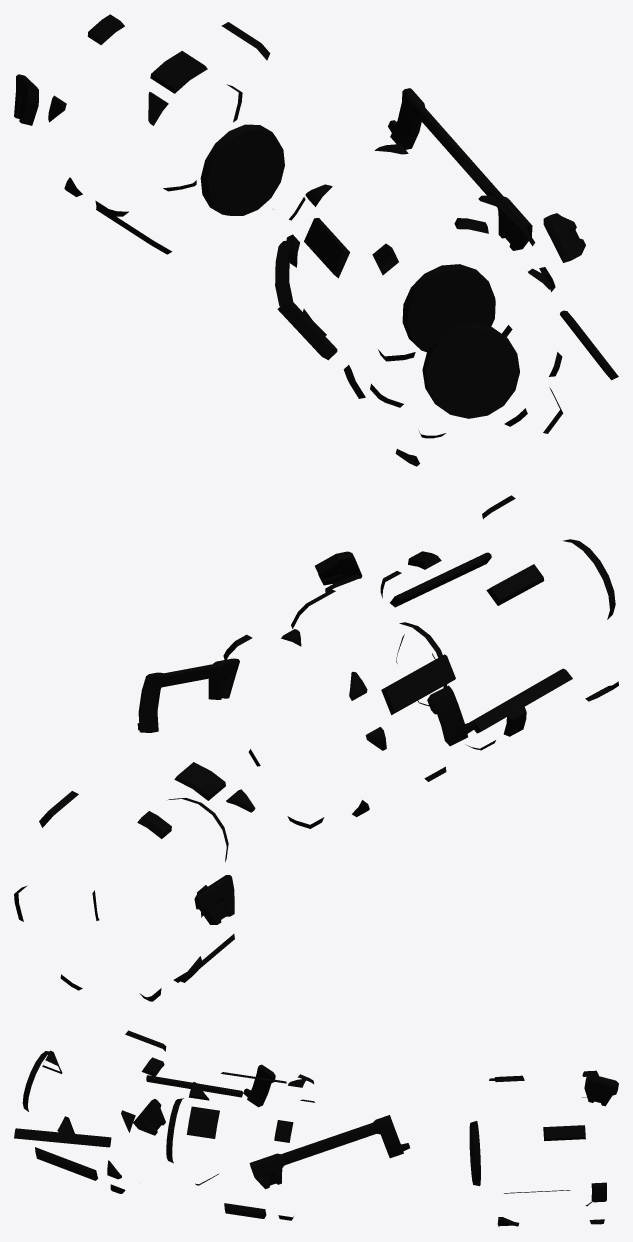
File: env_container_01_02.glb
The picture shows the model from 3 angles, top to bottom: view 1: azimuth 30°, elevation 25°; view 2: azimuth 150°, elevation 25°; view 3: azimuth 270°, elevation 25°; orthographic projection. The views are drawn at different scales.
Parts seen in each view (by area): view 1: env_container_01_03_LOD0 (×2), env_container_01_02_LOD0, env_container_01_connector (1), env_container_01_connector_broken_03 (1), env_container_01_connector_broken_02 (1), env_container_01_connector_broken_03 (2), env_container_01_connector_broken_01 (1), env_container_01_connector_broken_02 (2); view 2: env_container_01_03_LOD0 (×2), env_container_01_02_LOD0, env_container_01_connector (1), env_container_01_connector_broken_02 (1), env_container_01_connector_broken_01 (1), env_container_01_connector_broken_03 (2), env_container_01_connector_broken_02 (2), env_container_01_connector_broken_03 (1); view 3: env_container_01_03_LOD0 (×2), env_container_01_connector (1), env_container_01_02_LOD0, env_container_01_connector_broken_02 (2), env_container_01_connector_broken_03 (2), env_container_01_connector_broken_03 (1), env_container_01_connector_broken_01 (1), env_container_01_connector_broken_02 (1).
Part boxes in pixels (bbox=[...]): env_container_01_03_LOD0 (×2): bbox=[48, 14, 535, 407]; env_container_01_02_LOD0: bbox=[343, 218, 563, 466]; env_container_01_connector (1): bbox=[388, 88, 532, 250]; env_container_01_connector_broken_03 (1): bbox=[543, 213, 585, 262]; env_container_01_connector_broken_02 (1): bbox=[277, 300, 337, 360]; env_container_01_connector_broken_03 (2): bbox=[14, 74, 38, 125]; env_container_01_connector_broken_01 (1): bbox=[275, 240, 293, 306]; env_container_01_connector_broken_02 (2): bbox=[560, 310, 618, 380]; env_container_01_03_LOD0 (×2): bbox=[14, 574, 455, 1001]; env_container_01_02_LOD0: bbox=[380, 495, 618, 750]; env_container_01_connector (1): bbox=[137, 658, 239, 732]; env_container_01_connector_broken_02 (1): bbox=[470, 668, 572, 733]; env_container_01_connector_broken_01 (1): bbox=[427, 685, 475, 746]; env_container_01_connector_broken_03 (2): bbox=[194, 875, 234, 924]; env_container_01_connector_broken_02 (2): bbox=[390, 552, 491, 607]; env_container_01_connector_broken_03 (1): bbox=[315, 551, 362, 585]; env_container_01_03_LOD0 (×2): bbox=[166, 1070, 606, 1226]; env_container_01_connector (1): bbox=[249, 1115, 409, 1189]; env_container_01_02_LOD0: bbox=[22, 1030, 166, 1193]; env_container_01_connector_broken_02 (2): bbox=[14, 1128, 111, 1147]; env_container_01_connector_broken_03 (2): bbox=[584, 1076, 618, 1106]; env_container_01_connector_broken_03 (1): bbox=[133, 1099, 165, 1135]; env_container_01_connector_broken_01 (1): bbox=[243, 1064, 275, 1107]; env_container_01_connector_broken_02 (1): bbox=[146, 1075, 242, 1097].
Size of what is drawn, in the model's own units: 2.24 by 1.75 by 6.03.
Materials: 2 (2 with a texture image).
